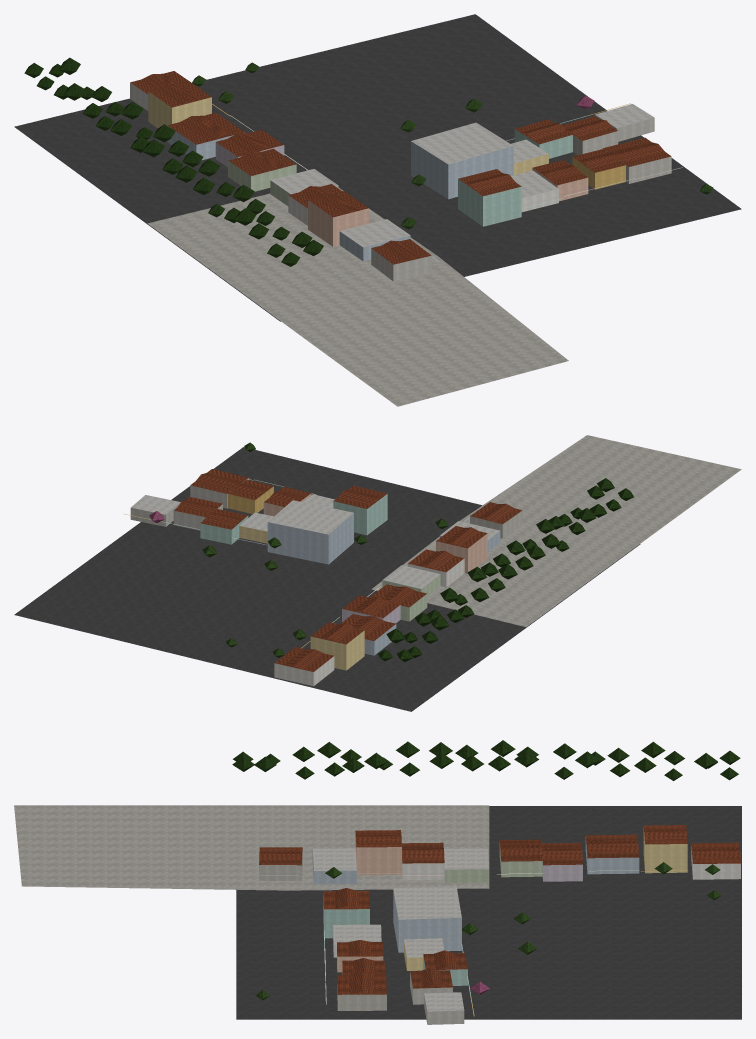
Rendered from cidade_S00_02_lod.gltf.
3 views of the same model, one above another, from view 1: azimuth 30°, elevation 25°; view 2: azimuth 150°, elevation 25°; view 3: azimuth 270°, elevation 25° (orthographic). The views are drawn at different scales.
Parts seen in each view (by area): view 1: S00_02_Chao_LOD2, S00_02_Edificios_LOD1, S00_02_Silhueta_LOD2, S00_02_Vegetacao_LOD2; view 2: S00_02_Chao_LOD2, S00_02_Edificios_LOD1, S00_02_Silhueta_LOD2, S00_02_Vegetacao_LOD2; view 3: S00_02_Chao_LOD2, S00_02_Edificios_LOD1, S00_02_Silhueta_LOD2, S00_02_Vegetacao_LOD2.
Boxes of the visible parts, x1,y1,x2,y2 form: S00_02_Chao_LOD2: (14,14,741,406); S00_02_Edificios_LOD1: (130,73,682,281); S00_02_Silhueta_LOD2: (130,71,671,281); S00_02_Vegetacao_LOD2: (24,57,713,266); S00_02_Chao_LOD2: (14,435,741,711); S00_02_Edificios_LOD1: (123,473,522,686); S00_02_Silhueta_LOD2: (173,469,522,685); S00_02_Vegetacao_LOD2: (149,442,633,661); S00_02_Chao_LOD2: (14,805,741,1019); S00_02_Edificios_LOD1: (259,829,740,1024); S00_02_Silhueta_LOD2: (259,825,740,1010); S00_02_Vegetacao_LOD2: (232,740,740,1000).
Bounding box in the file's own units: 103 × 15.88 × 144.
Materials: 18 (18 with a texture image).
